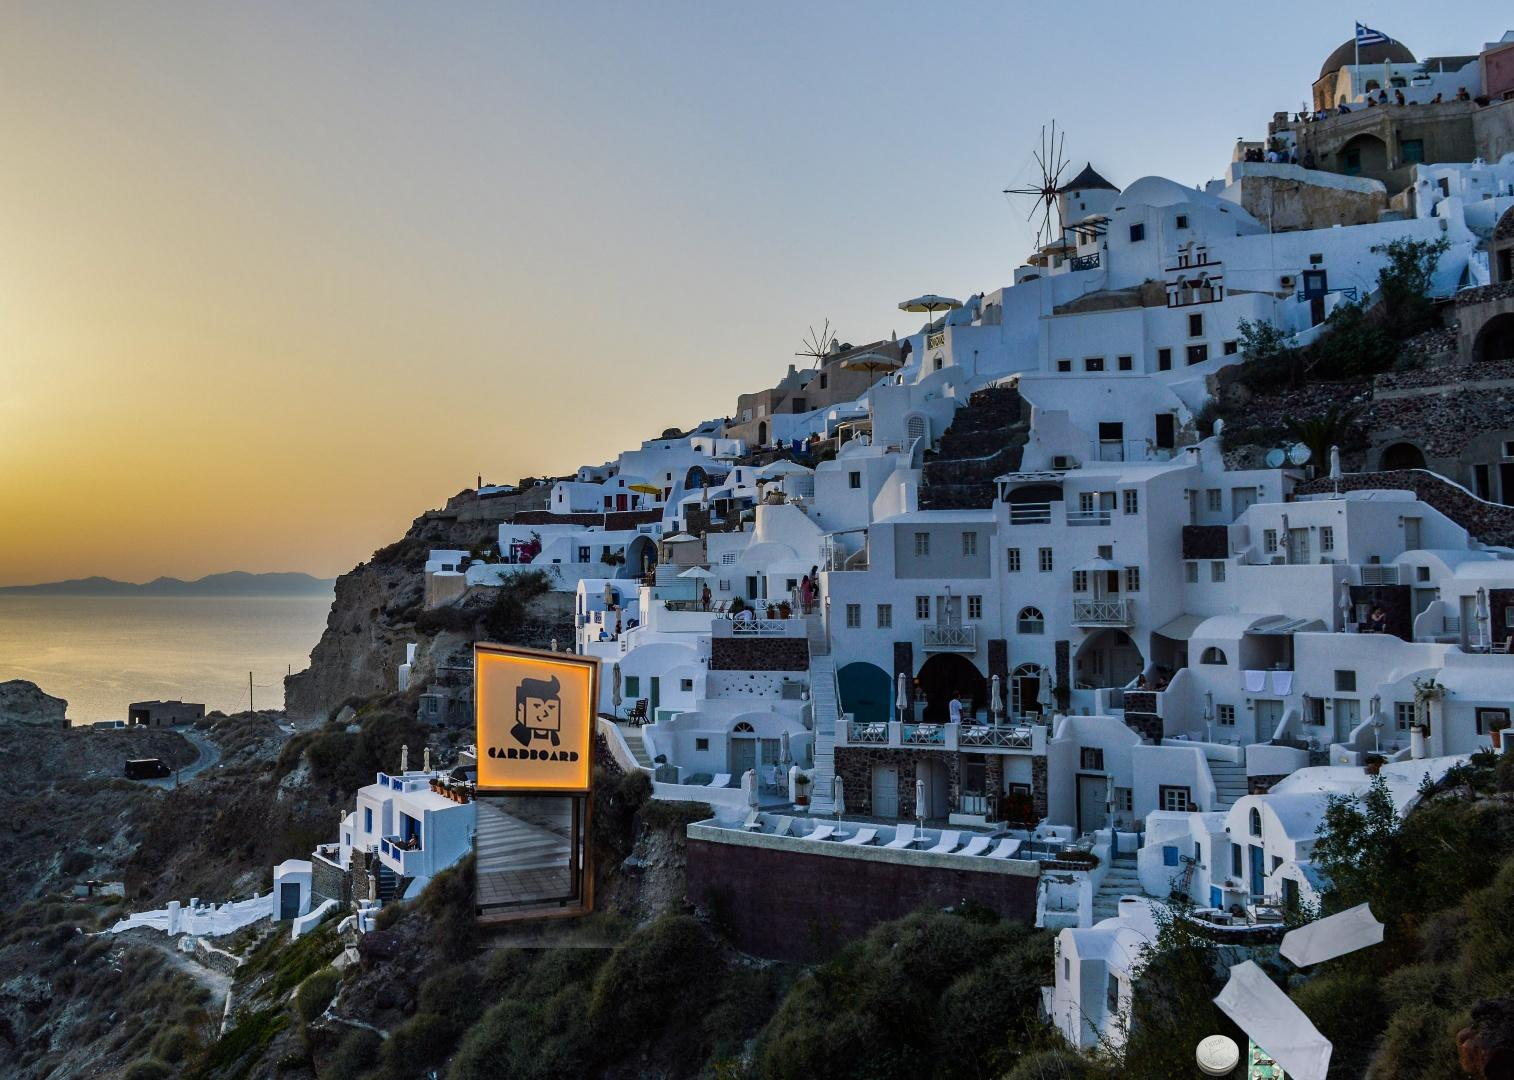battery: (1193, 994, 1289, 1080)
plastic-bag: (1209, 899, 1385, 1080)
trashbox-cardboard: (447, 618, 641, 948)
